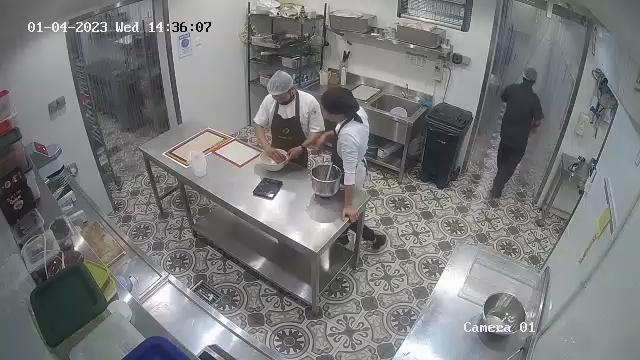apron: (270, 92, 313, 170), (327, 119, 360, 188)
